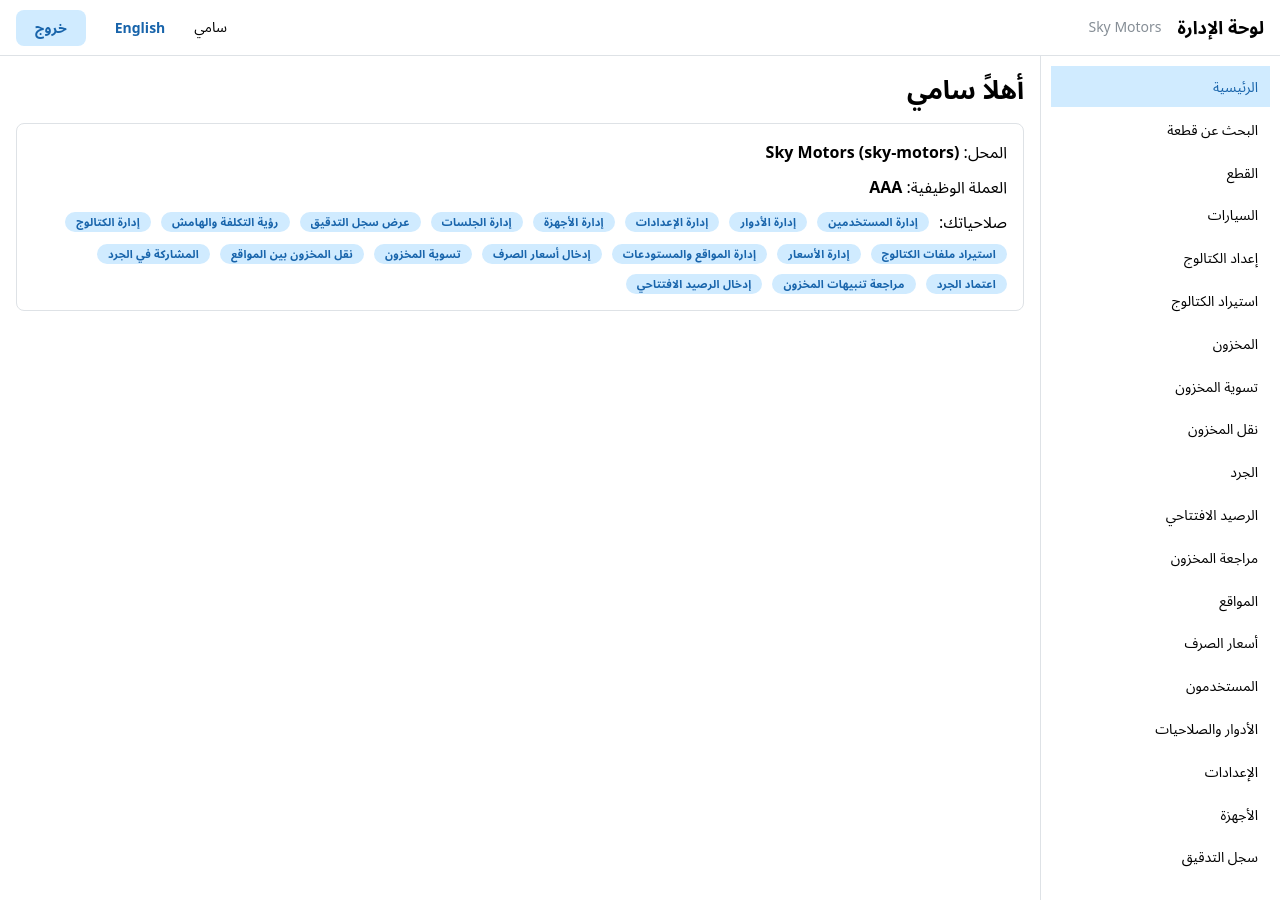
it: signing out › keeps the user signed in and says so when the server cannot be reached
The image size is (1280, 900).
Expected: the heading "أهلاً سامي" is shown, [907,71,1024,107]
What coordinates should you click on to do the following:
click the button "خروج"
I would click on:
 (51, 28)
Its box is [16,10,86,46].
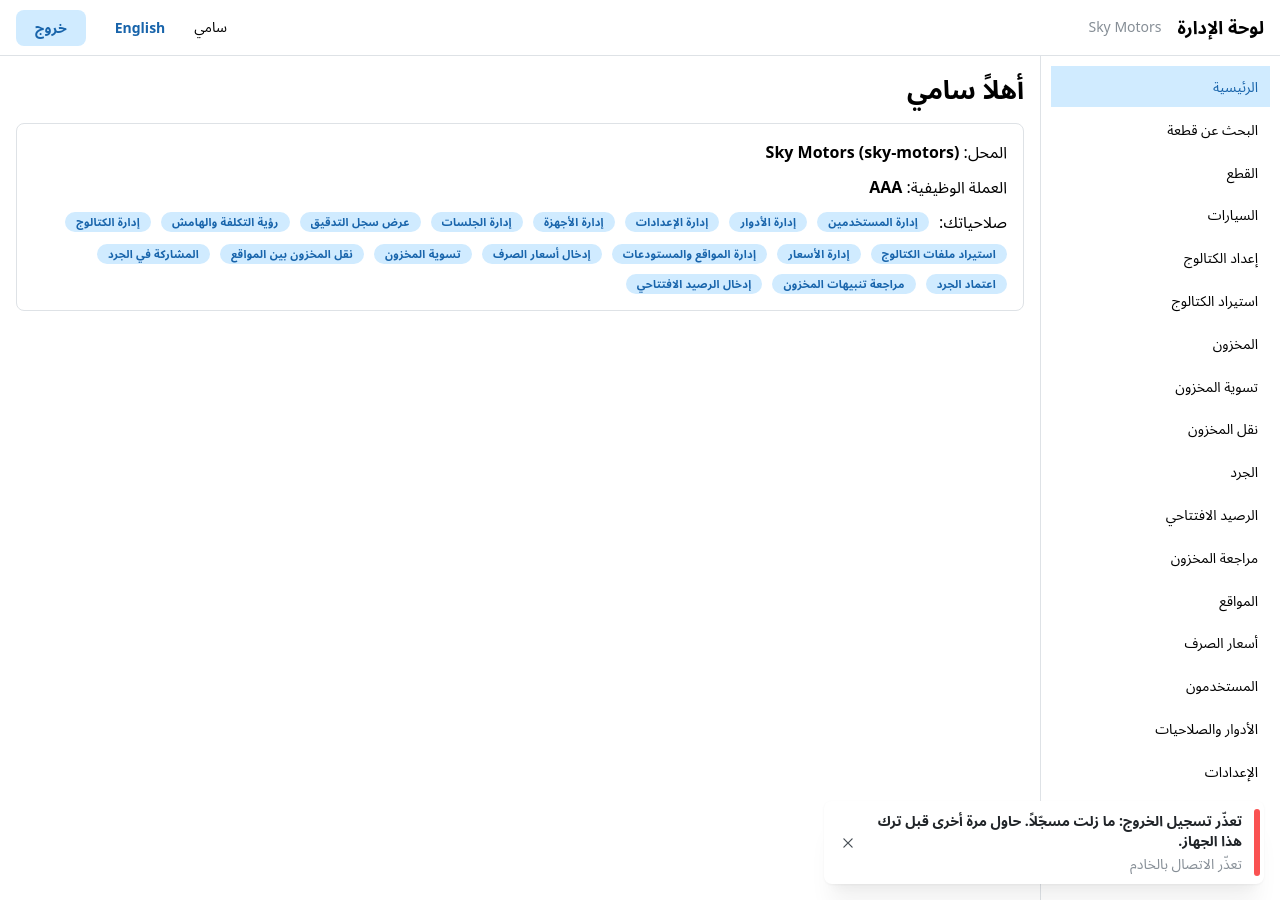
Expected: the heading "أهلاً سامي" is shown, [907,71,1024,107]
Result: the message shows "تعذّر تسجيل الخروج: ما زلت مسجّلاً. حاول مرة أخرى قبل ترك هذا الجهاز." at [878,811,1242,850]
Result: the message shows "تعذّر الاتصال بالخادم" at [1130,854,1242,873]
What coordinates should you click on to do the following:
click the button "خروج"
I would click on:
 (51, 28)
Its box is [16,10,86,46].
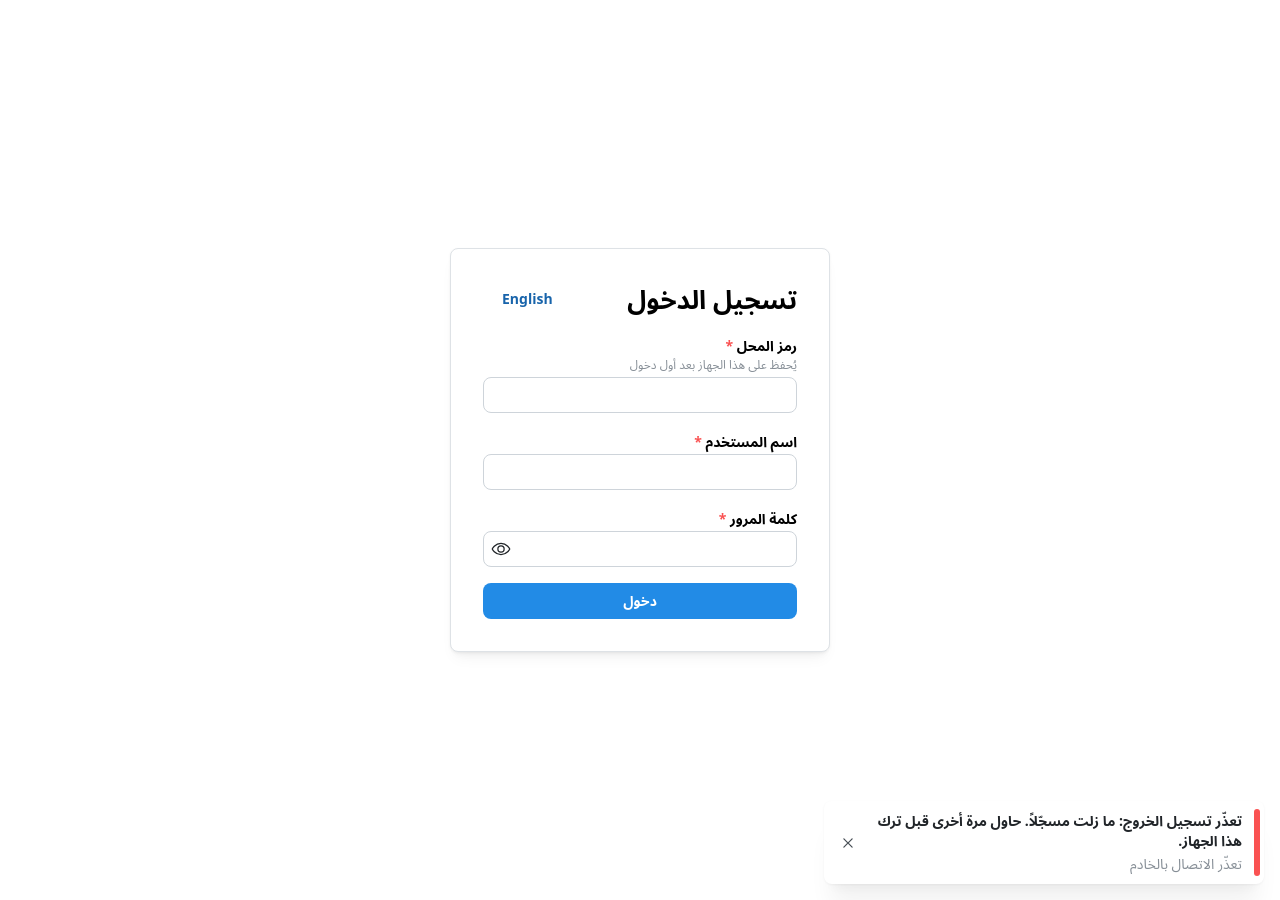
Result: the heading "تسجيل الدخول" is shown at [627,282,797,317]
